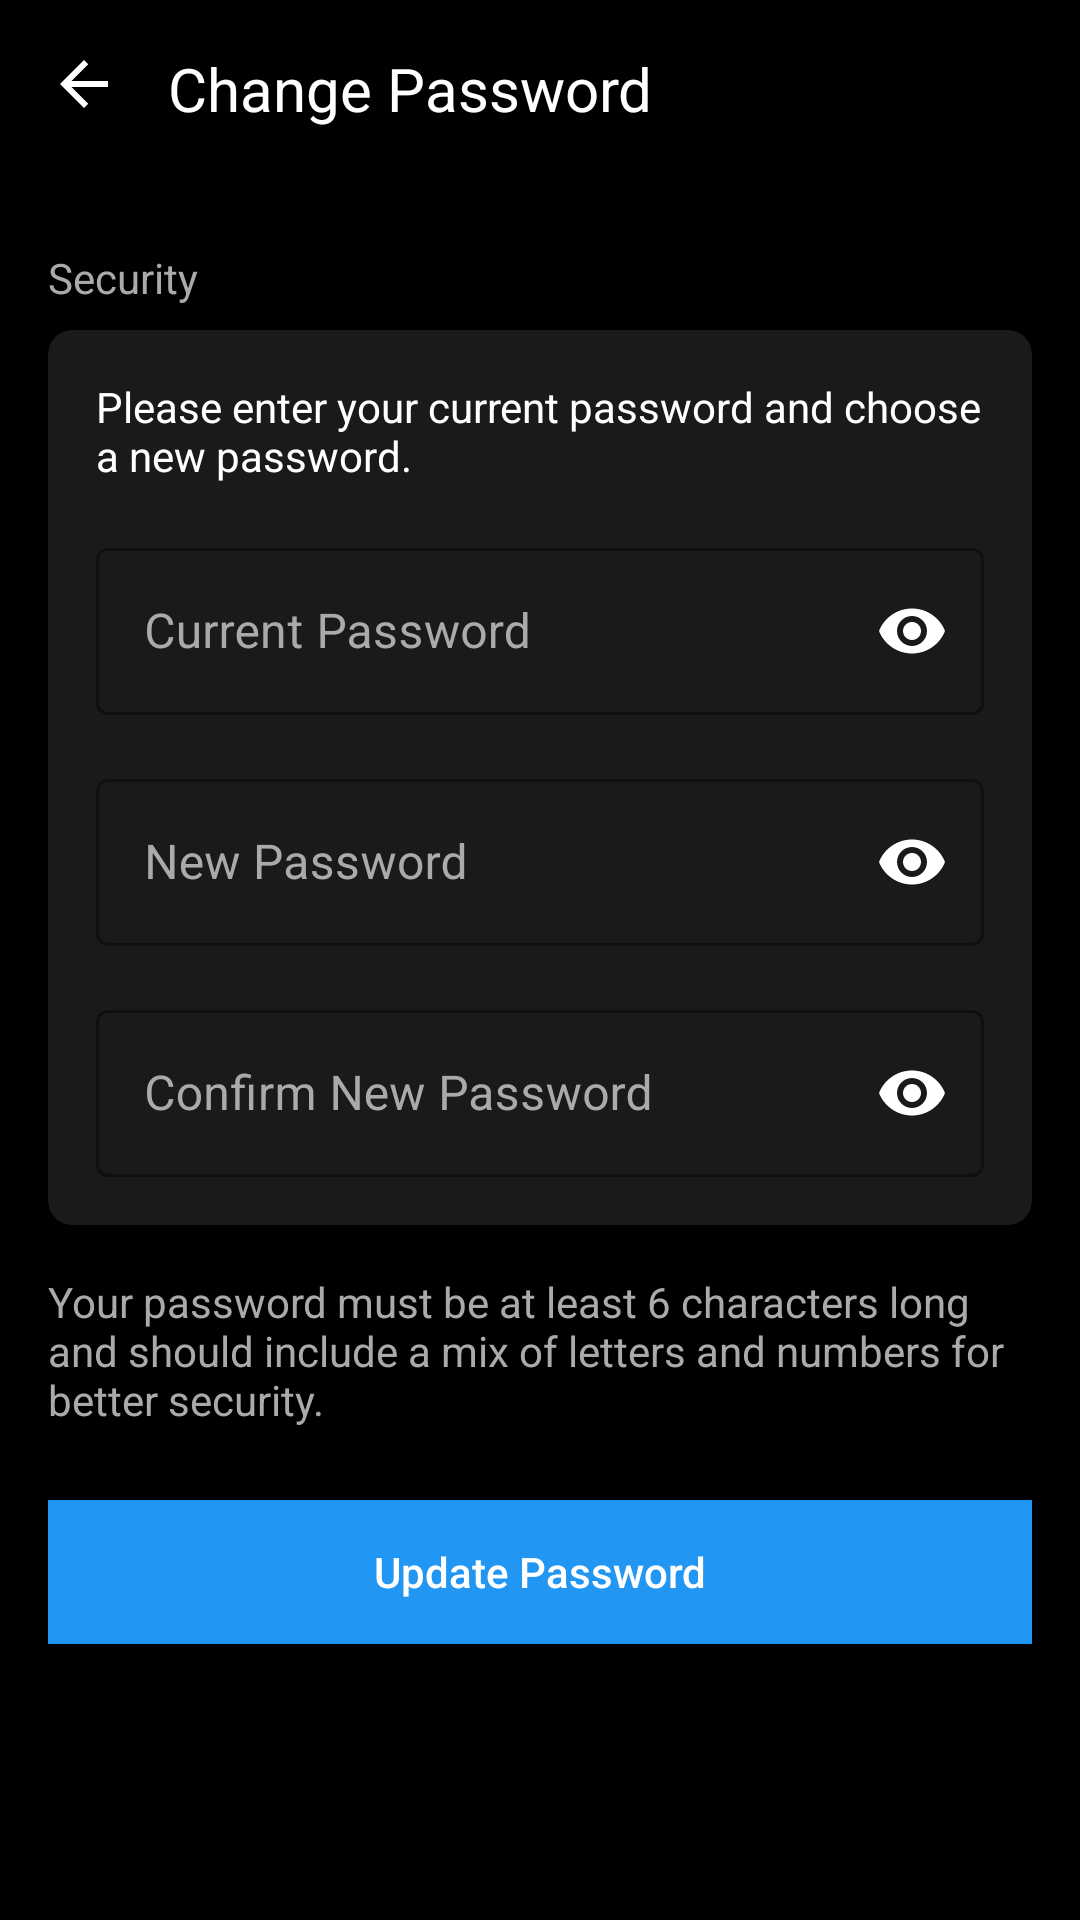

Icon click points for this 1080x1920 phone screenshot, format (x,y):
Back: (84,84)
